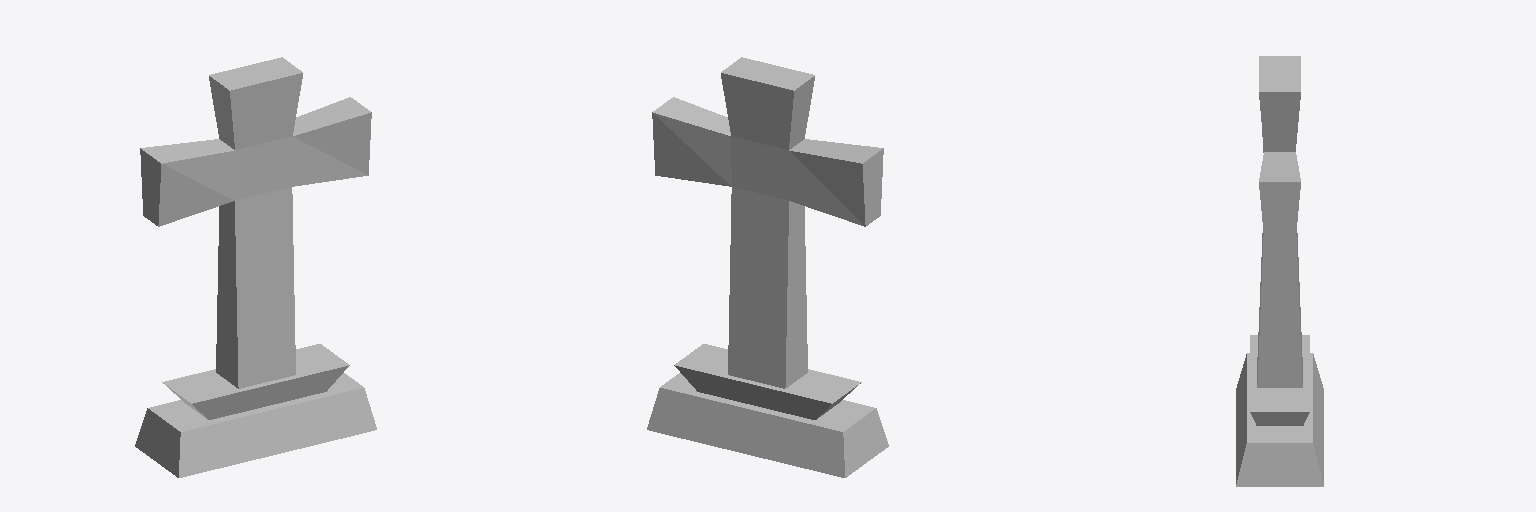
File: Tomb02.obj
3 views of the same model, side by side, from view 1: azimuth 30°, elevation 25°; view 2: azimuth 150°, elevation 25°; view 3: azimuth 270°, elevation 25° (orthographic).
Parts seen in each view (by area): view 1: Tomb_02; view 2: Tomb_02; view 3: Tomb_02.
Boxes of the visible parts, x1,y1,x2,y2 form: Tomb_02: [135, 57, 376, 477]; Tomb_02: [647, 57, 888, 477]; Tomb_02: [1236, 56, 1323, 486].
Size of the model in its own units: 14.27 by 23.6 by 5.18.